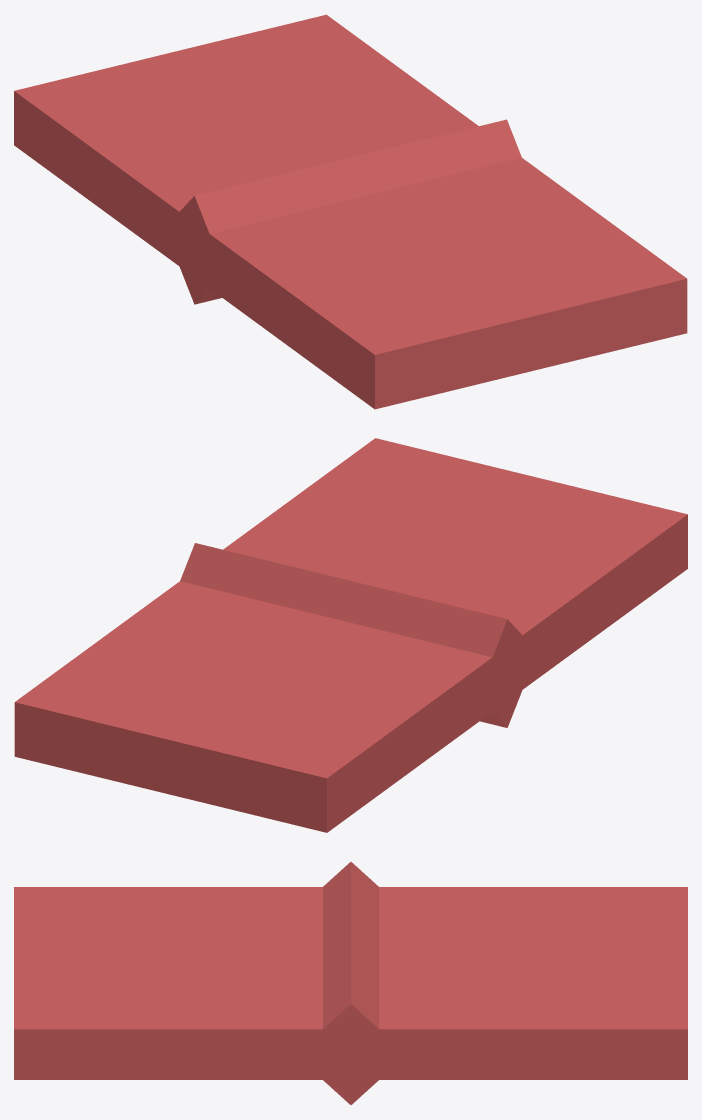
The model's file is ct_mecha_obj11.glb.
3 views of the same model, one above another, from view 1: azimuth 30°, elevation 25°; view 2: azimuth 150°, elevation 25°; view 3: azimuth 270°, elevation 25° (orthographic). The views are drawn at different scales.
Visible parts, largest first — view 1: ct_mecha_obj11_col; view 2: ct_mecha_obj11_col; view 3: ct_mecha_obj11_col.
Boxes of the visible parts, x1=… form: ct_mecha_obj11_col: x1=14, y1=14, x2=687, y2=409; ct_mecha_obj11_col: x1=14, y1=438, x2=687, y2=832; ct_mecha_obj11_col: x1=14, y1=862, x2=687, y2=1104.
Size of the model in its own units: 0.3006 by 0.1001 by 0.6003.
